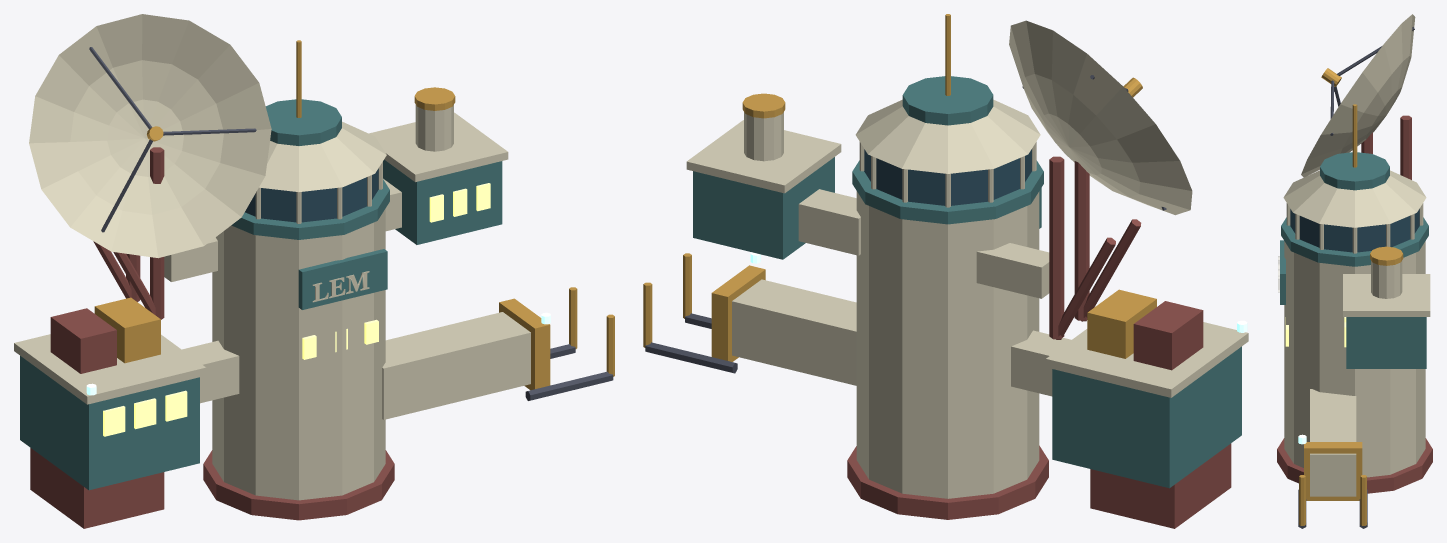
The model's file is lem-station.glb.
The picture shows the model from 3 angles, left to right: view 1: azimuth 30°, elevation 25°; view 2: azimuth 150°, elevation 25°; view 3: azimuth 270°, elevation 25°; orthographic projection. The views are drawn at different scales.
Parts seen in each view (by area): view 1: listening_dish, original_pressure_hull, market_hall, berth_connector, signals_office, market_roof, roof, freight_annex, signals_roof, base_collar, freight_container, nameplate (+12 smaller); view 2: original_pressure_hull, market_hall, listening_dish, berth_connector, roof, signals_office, freight_annex, market_roof, signals_roof, base_collar, observation_glazing, upper_collar (+14 smaller); view 3: original_pressure_hull, listening_dish, roof, berth_connector, signals_office, signals_roof, observation_glazing, roof_cap, upper_collar, base_collar, berth_collar, ansible_housing (+8 smaller).
Boxes of the visible parts, x1=… form: listening_dish: x1=29, y1=14, x2=271, y2=258; original_pressure_hull: x1=212, y1=209, x2=385, y2=500; market_hall: x1=20, y1=356, x2=199, y2=490; berth_connector: x1=382, y1=312, x2=530, y2=419; signals_office: x1=383, y1=159, x2=502, y2=244; market_roof: x1=14, y1=334, x2=206, y2=404; roof: x1=259, y1=121, x2=386, y2=191; freight_annex: x1=30, y1=448, x2=164, y2=528; signals_roof: x1=369, y1=112, x2=508, y2=182; base_collar: x1=203, y1=450, x2=394, y2=520; freight_container: x1=50, y1=308, x2=116, y2=373; nameplate: x1=298, y1=249, x2=387, y2=309; original_pressure_hull: x1=856, y1=191, x2=1039, y2=498; market_hall: x1=1052, y1=346, x2=1241, y2=488; listening_dish: x1=1009, y1=20, x2=1192, y2=215; berth_connector: x1=732, y1=279, x2=856, y2=385; roof: x1=855, y1=99, x2=1040, y2=173; signals_office: x1=693, y1=157, x2=834, y2=259; freight_annex: x1=1090, y1=443, x2=1231, y2=528; market_roof: x1=1046, y1=322, x2=1248, y2=397; signals_roof: x1=686, y1=120, x2=841, y2=193; base_collar: x1=847, y1=445, x2=1048, y2=519; observation_glazing: x1=864, y1=149, x2=1031, y2=205; upper_collar: x1=852, y1=160, x2=1043, y2=224; original_pressure_hull: x1=1284, y1=241, x2=1425, y2=477; listening_dish: x1=1301, y1=14, x2=1415, y2=177; roof: x1=1283, y1=170, x2=1426, y2=227; berth_connector: x1=1310, y1=389, x2=1356, y2=496; signals_office: x1=1346, y1=317, x2=1426, y2=368; signals_roof: x1=1343, y1=274, x2=1430, y2=316; observation_glazing: x1=1290, y1=209, x2=1419, y2=252; roof_cap: x1=1320, y1=152, x2=1389, y2=190; upper_collar: x1=1281, y1=217, x2=1428, y2=266; base_collar: x1=1277, y1=438, x2=1432, y2=493; berth_collar: x1=1304, y1=442, x2=1362, y2=500; ansible_housing: x1=1371, y1=260, x2=1402, y2=298.
Bounding box in the file's own units: 10.26 × 8.8 × 3.2.
